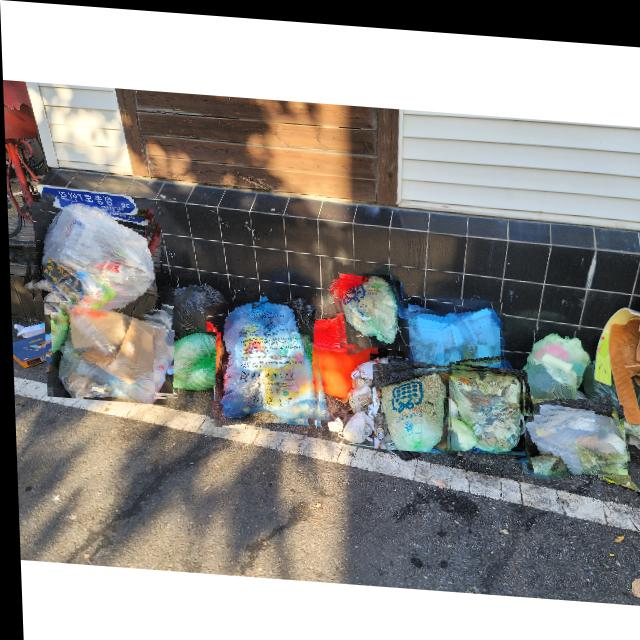general_trashbag: (204, 295, 316, 423), (498, 321, 592, 407), (370, 363, 449, 447), (447, 362, 522, 447), (329, 270, 406, 346), (151, 327, 218, 398)
other_trashbag: (28, 192, 159, 317), (44, 300, 177, 402), (509, 385, 627, 471), (385, 294, 510, 370), (156, 271, 234, 345)
